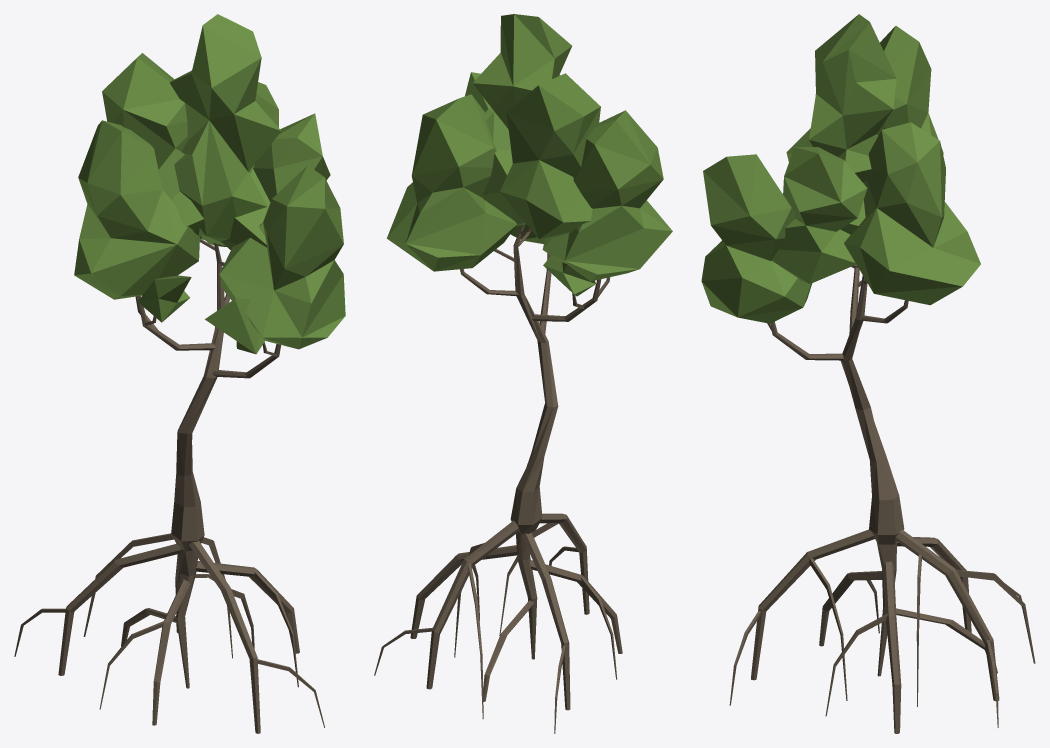
File: SM_Env_Mangrove_Tree_01.glb
The picture shows the model from 3 angles, left to right: view 1: azimuth 30°, elevation 25°; view 2: azimuth 150°, elevation 25°; view 3: azimuth 270°, elevation 25°; orthographic projection. The views are drawn at different scales.
Visible parts, largest first — view 1: SM_Env_Mangrove_Tree_01_part00; view 2: SM_Env_Mangrove_Tree_01_part00; view 3: SM_Env_Mangrove_Tree_01_part00.
Part boxes in pixels (x1,y1,x2,y2): SM_Env_Mangrove_Tree_01_part00: (14,14,345,733); SM_Env_Mangrove_Tree_01_part00: (374,14,672,733); SM_Env_Mangrove_Tree_01_part00: (701,14,1035,733).
Size of the model in its own units: 1.91 by 4.9 by 2.23.
1 material, 1 textured.
